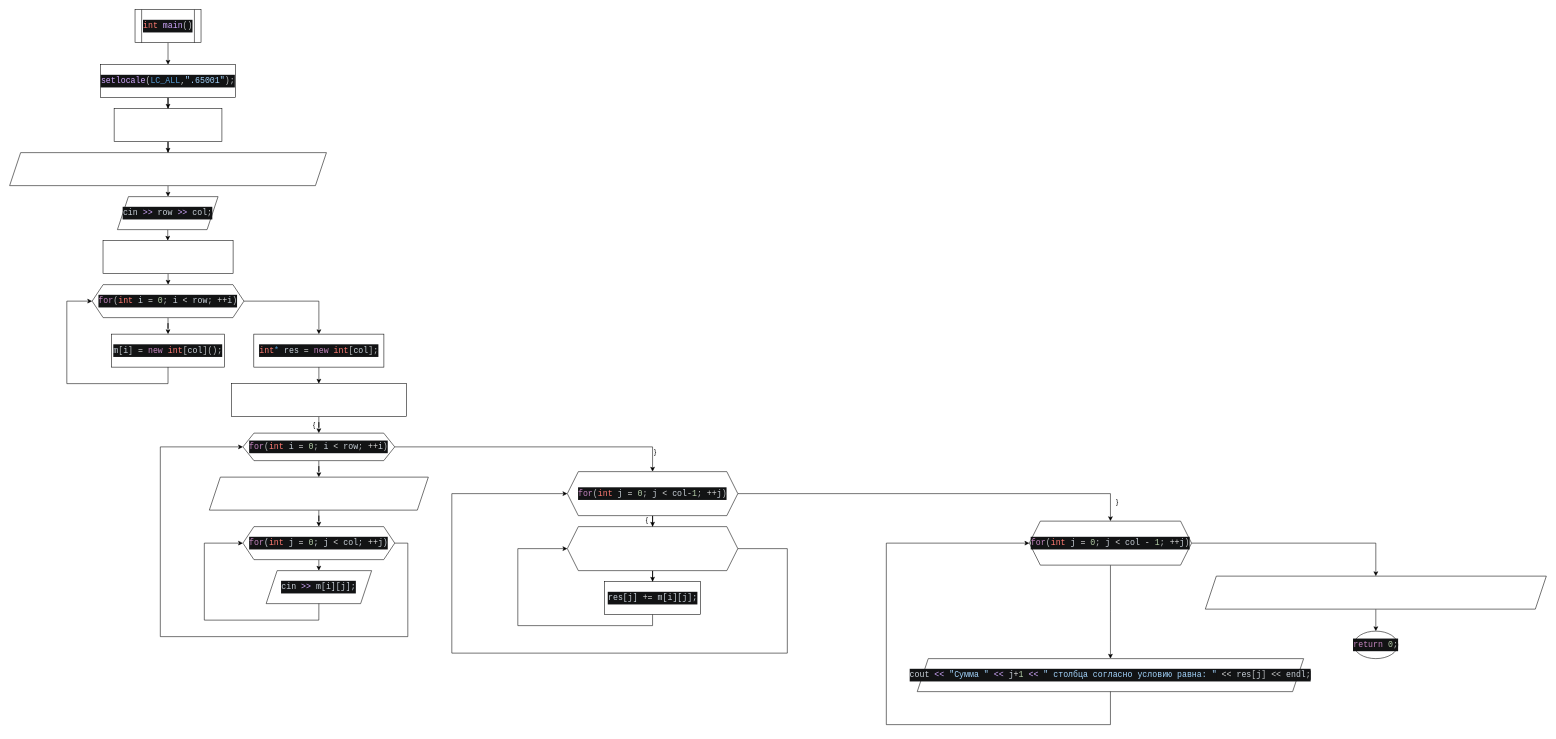
Some shapes in this 1556 by 739 pixel diagram are drawn without their labels. The centre of each missing label's shape, as x and y in pixels:
cout << "Введите " << i + 1 << " строку: " ;: pixel 318 493
cout << "Введите количество столбцов и строк через пробел: " ;: pixel 167 169
cout << "Максимальная сумма равна: " << * max_element ( res , res + col );: pixel 1375 592
for ( int i = 0 ; i < row - 1 - j ; ++ i ): pixel 652 548
int ** m = new int * [ row ];: pixel 167 257
int row , col , s = 0 ;: pixel 168 125
memset ( res , 0 , col * sizeof ( int ));: pixel 318 400
